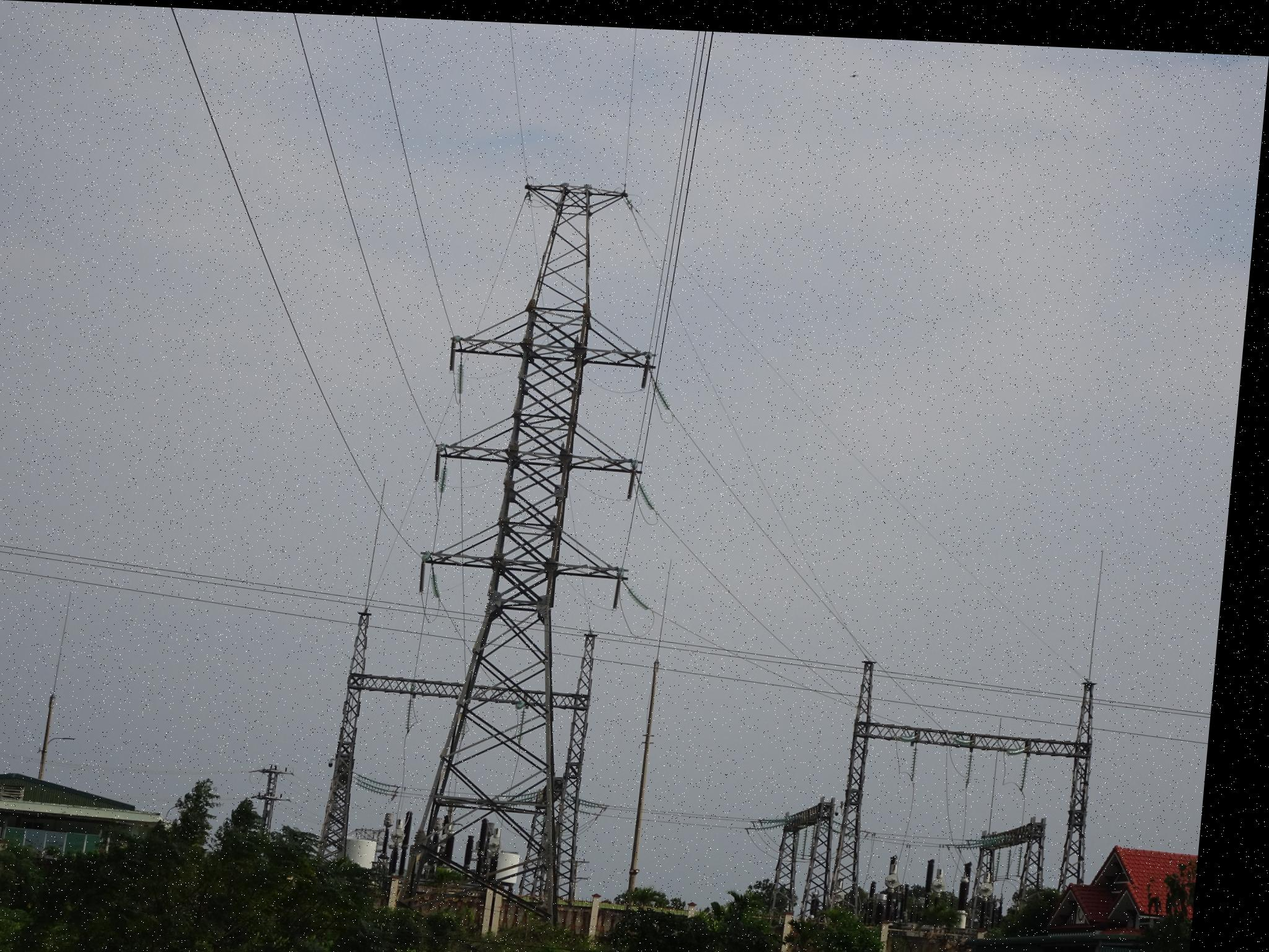tower: (366, 163, 690, 952)
